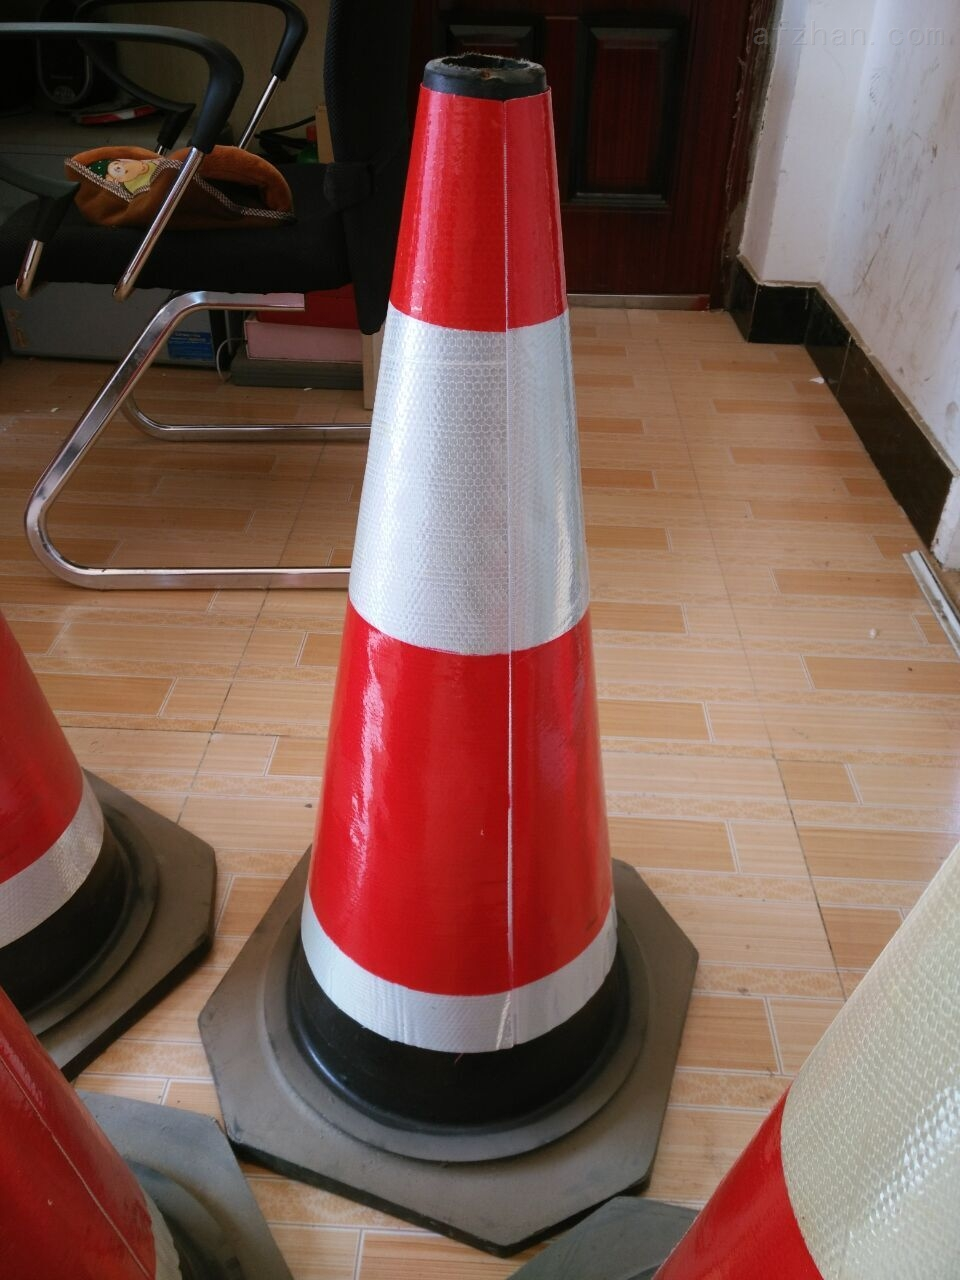traffic_cone: (198, 42, 735, 1214)
